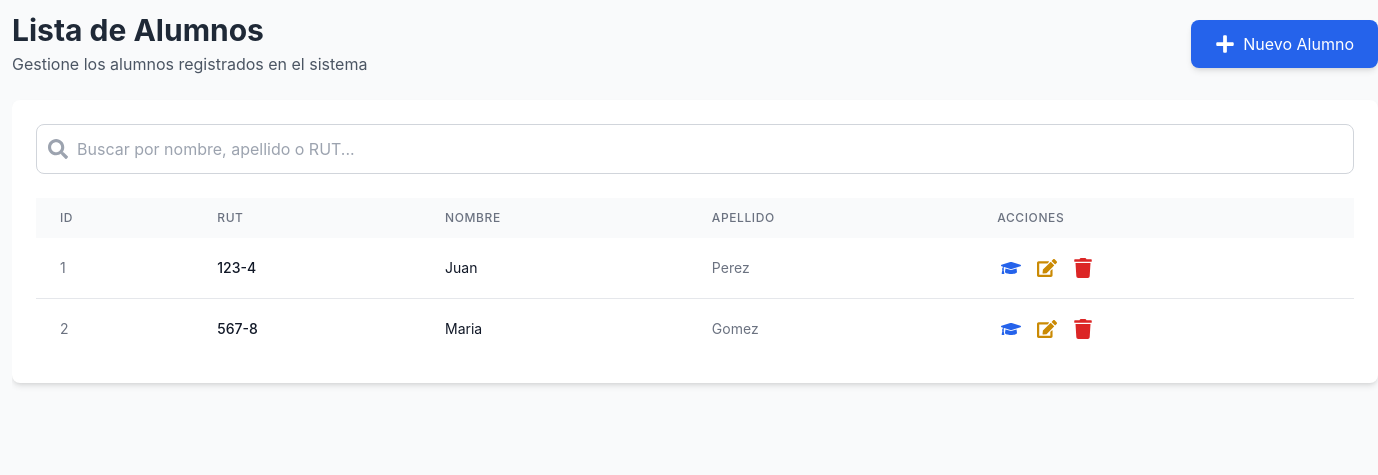
Test: AlumnoList › debe filtrar los alumnos según el término de búsqueda
Expected: the text "Juan" is shown, [421,238,688,298]
Type "Maria" into the field with placeholder "Buscar por nombre, apellido o RUT...".
click(695, 149); type("Maria")  # box [36,124,1354,174]
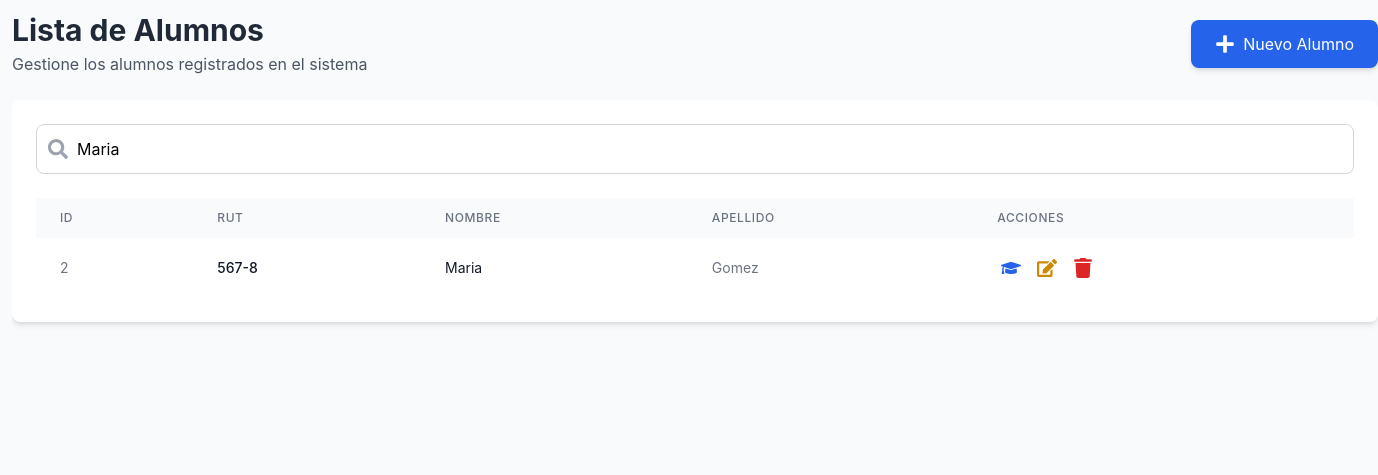
Expected: the text "Maria" is shown, [421,238,688,298]
Result: the text "Juan" is gone
Note: Búsqueda sin coincidencias
Replace the text in the field with placeholder "Buscar por nombre, apellido o RUT..." with "Inexistente" at x=695, y=149, box [36,124,1354,174]
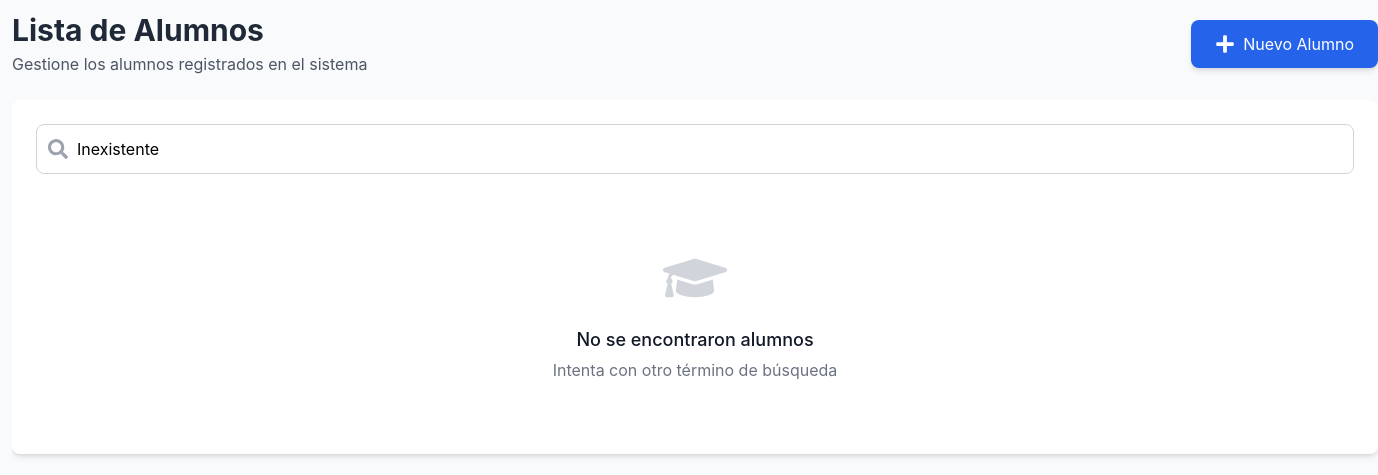
Result: the heading "No se encontraron alumnos" is shown at [576,329,814,350]
